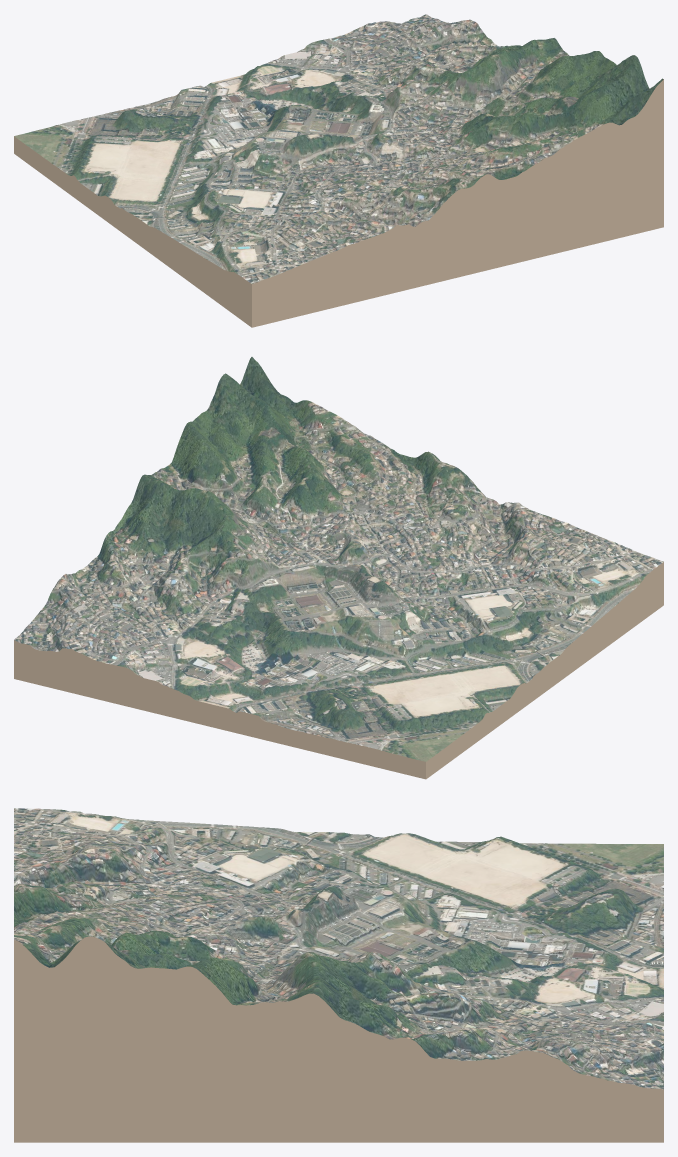
File: facility-003.glb
The picture shows the model from 3 angles, top to bottom: view 1: azimuth 30°, elevation 25°; view 2: azimuth 150°, elevation 25°; view 3: azimuth 270°, elevation 25°; orthographic projection. The views are drawn at different scales.
Bounding box in the file's own units: 0.6 × 0.21 × 0.6.
Materials: 17 (16 with a texture image).
